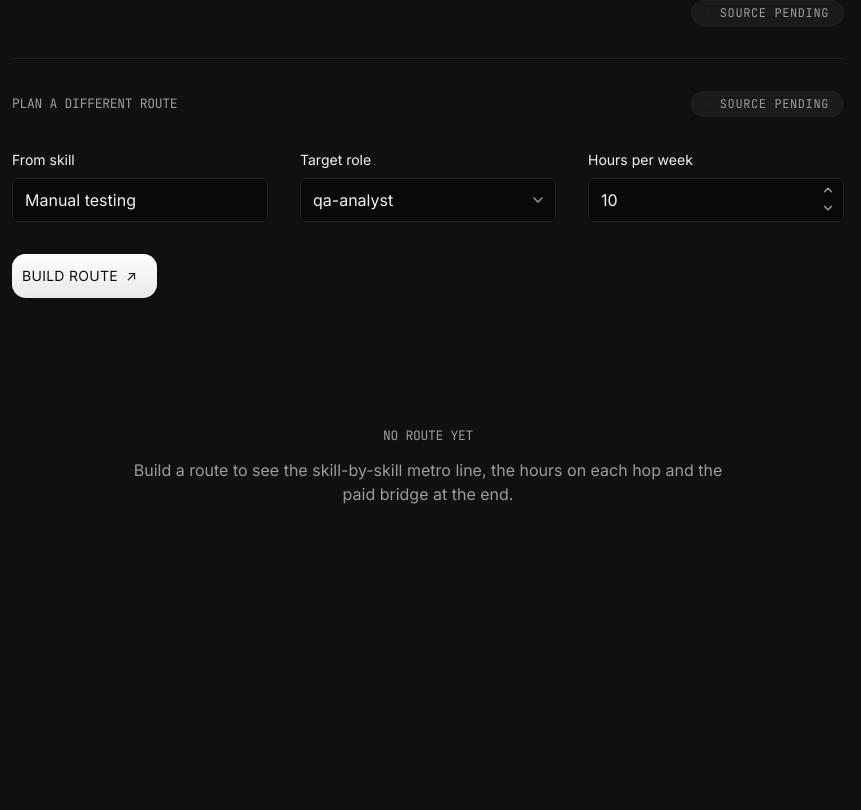
Test case: RouteMap › renders every paid bridge key the fixture happens to send
Step 1. Click the button "Build route ↗" → point(85, 276), box [12,254,157,298]
(page scrolled)
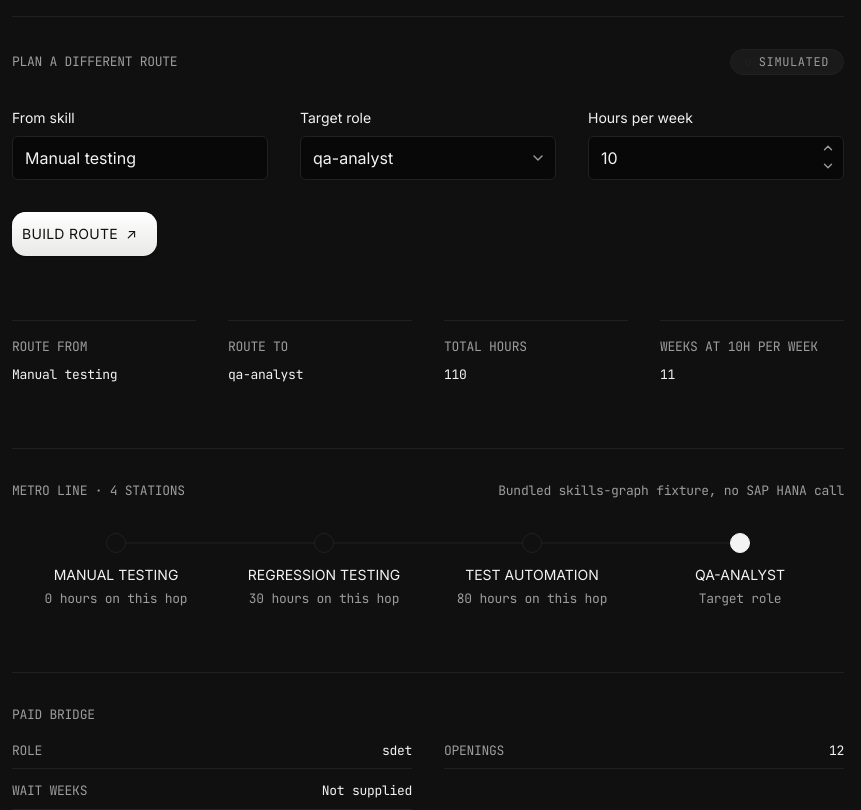
Result: the text "role" is shown at [12,740,42,760]
Result: the text "sdet" is shown at [382,740,412,760]
Result: the text "openings" is shown at [444,740,504,760]
